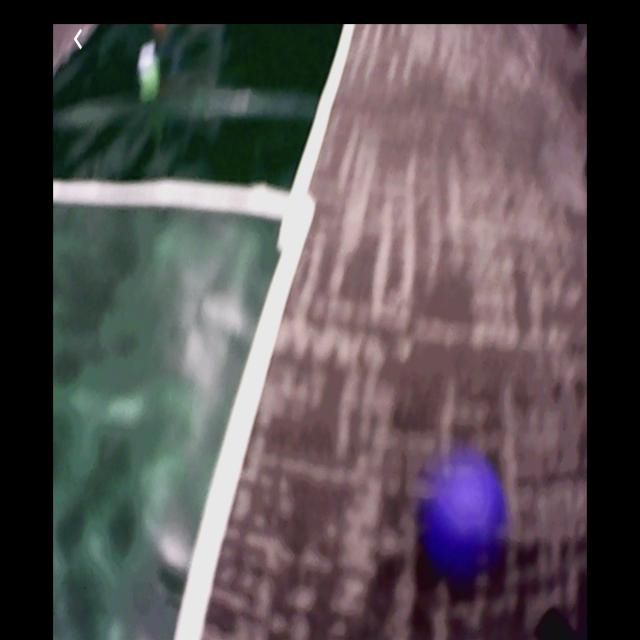ball: (426, 463, 505, 579)
